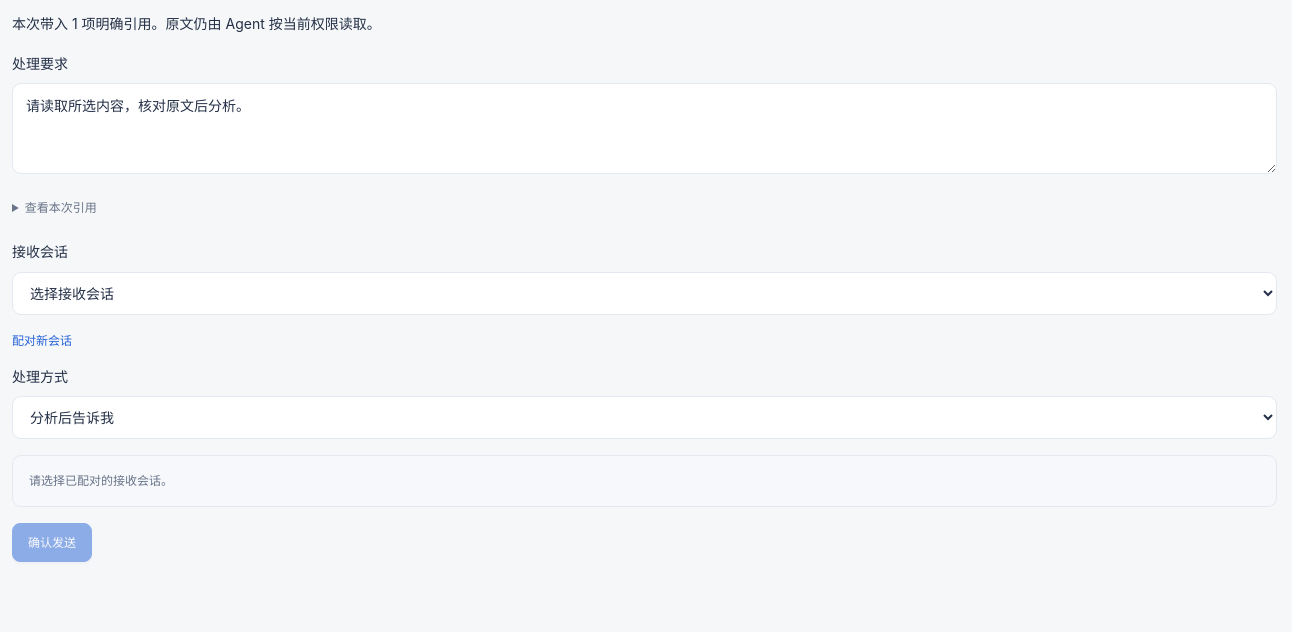
Scenario: queries the same request after a lost response without submitting again
Select "方案讨论 · 已配对" in the dropdown labelled "接收会话" at (644, 293), box [12,272,1277,315]
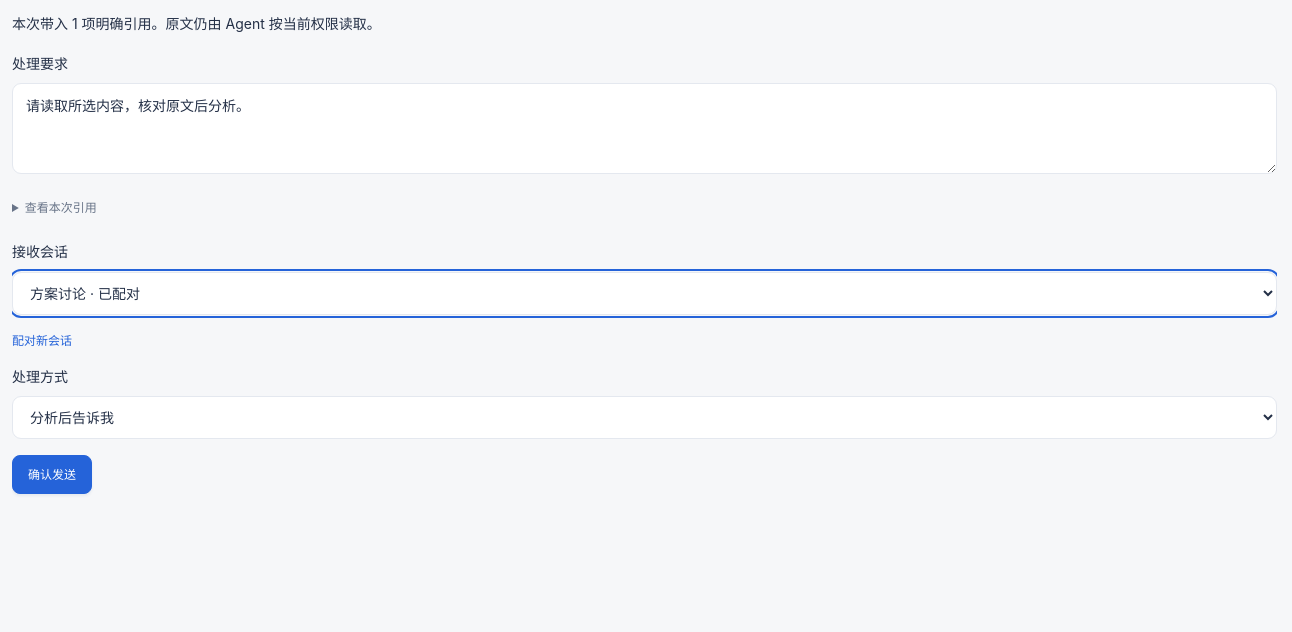
Click the button "确认发送".
click(52, 475)  # box [12,455,92,494]
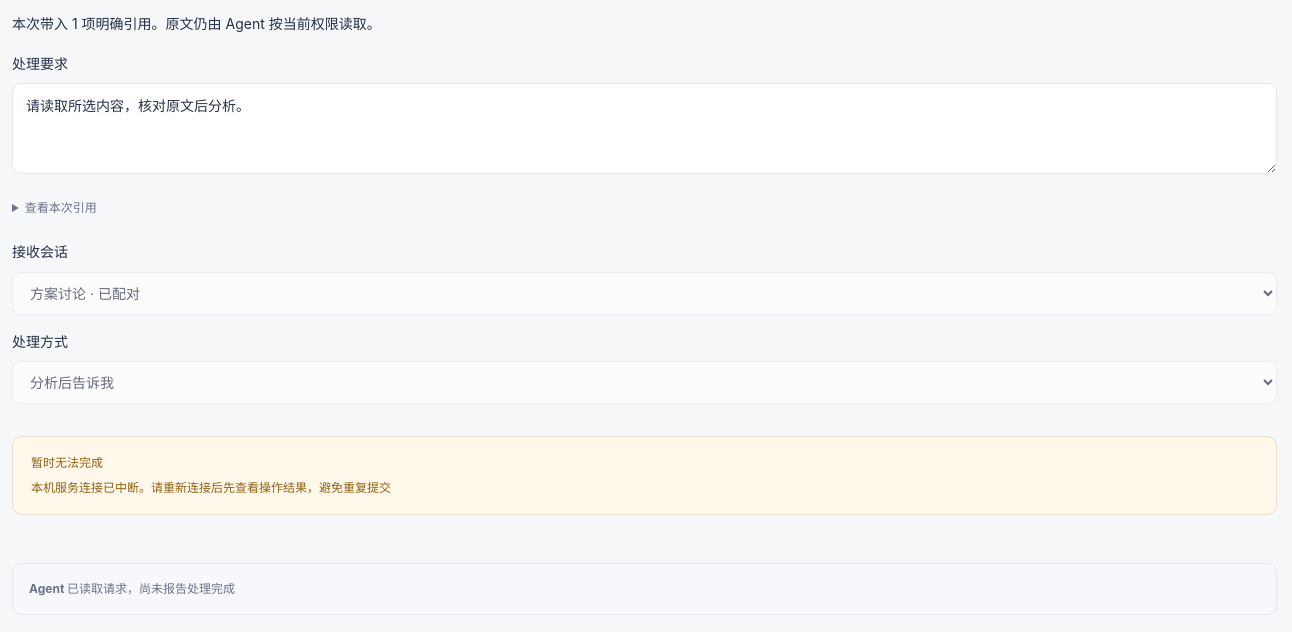
Expected: the text "Agent 已读取请求，尚未报告处理完成" is shown, [29,581,235,596]
Expected: the button "确认发送" is gone
